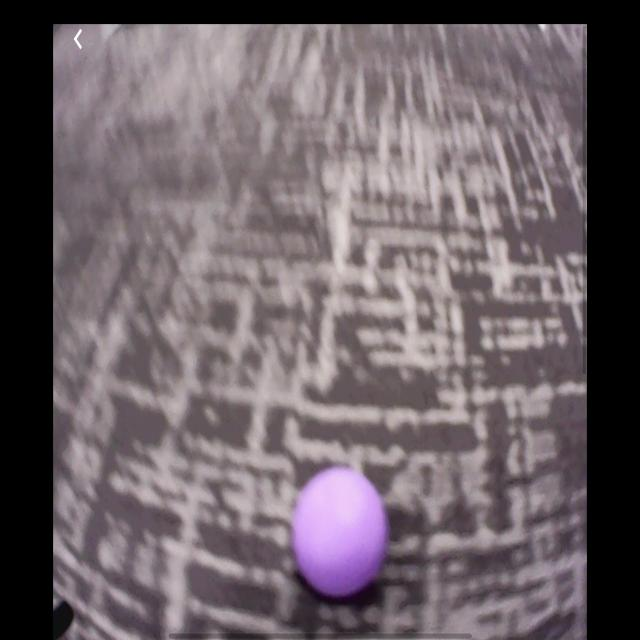ball: (293, 466, 387, 598)
